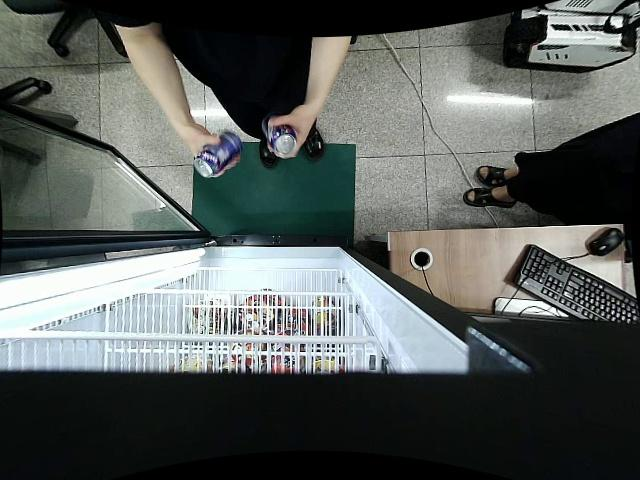00_hand: (182, 121, 242, 181), (267, 104, 315, 160)
14_welchsGrape: (193, 129, 243, 178), (261, 115, 297, 160)
